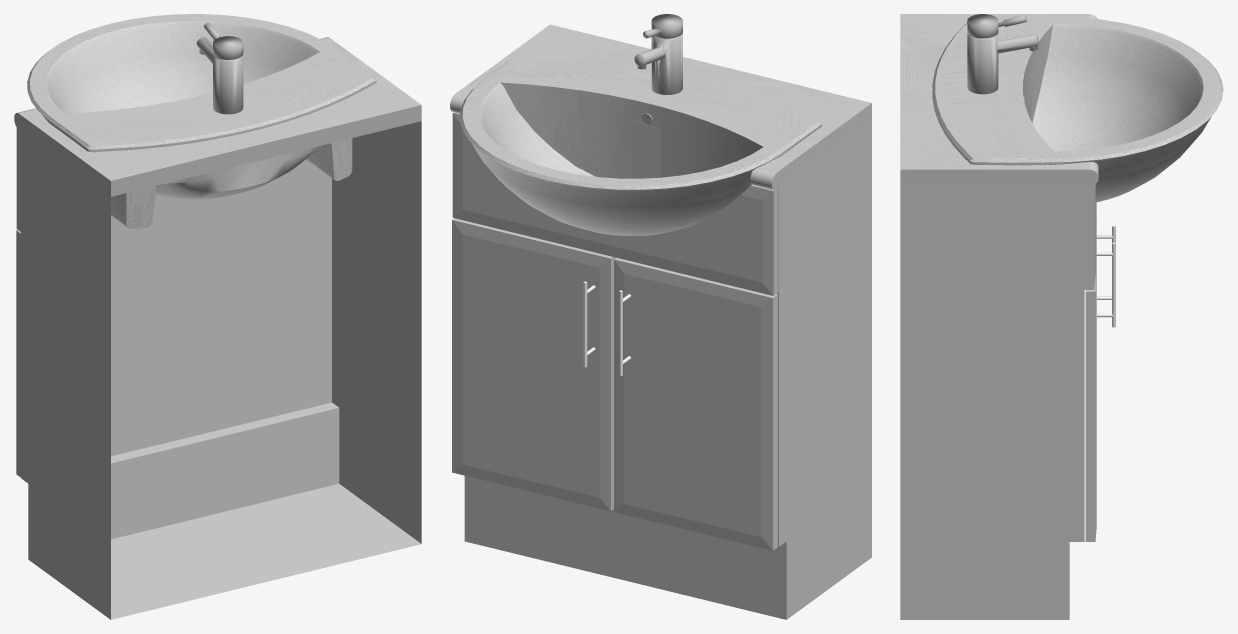
3 renders of one model, left to right at view 1: azimuth 30°, elevation 25°; view 2: azimuth 150°, elevation 25°; view 3: azimuth 270°, elevation 25°, orthographic. The views are drawn at different scales.
Visible parts, largest first — view 1: mesh1_mesh1-geometry, mesh28_mesh28-geometry, mesh36_mesh36-geometry, mesh30_mesh30-geometry, mesh38_mesh38-geometry, mesh4_mesh4-geometry, mesh39_mesh39-geometry; view 2: mesh1_mesh1-geometry, mesh28_mesh28-geometry, mesh4_mesh4-geometry, mesh6_mesh6-geometry, mesh8_mesh8-geometry, mesh36_mesh36-geometry, mesh38_mesh38-geometry, mesh10_mesh10-geometry, mesh39_mesh39-geometry; view 3: mesh1_mesh1-geometry, mesh28_mesh28-geometry, mesh36_mesh36-geometry, mesh6_mesh6-geometry, mesh38_mesh38-geometry, mesh8_mesh8-geometry, mesh39_mesh39-geometry.
Part boxes in pixels (<box>): mesh1_mesh1-geometry: <box>21,121,421,619</box>; mesh28_mesh28-geometry: <box>27,14,376,199</box>; mesh36_mesh36-geometry: <box>14,37,421,196</box>; mesh30_mesh30-geometry: <box>111,138,352,228</box>; mesh38_mesh38-geometry: <box>196,37,243,114</box>; mesh4_mesh4-geometry: <box>16,230,20,477</box>; mesh39_mesh39-geometry: <box>213,36,243,59</box>; mesh1_mesh1-geometry: <box>464,120,871,619</box>; mesh28_mesh28-geometry: <box>459,49,821,235</box>; mesh4_mesh4-geometry: <box>614,257,777,550</box>; mesh6_mesh6-geometry: <box>452,218,615,511</box>; mesh8_mesh8-geometry: <box>452,112,778,295</box>; mesh36_mesh36-geometry: <box>450,24,871,190</box>; mesh38_mesh38-geometry: <box>634,33,682,94</box>; mesh10_mesh10-geometry: <box>583,281,622,375</box>; mesh39_mesh39-geometry: <box>651,14,682,38</box>; mesh1_mesh1-geometry: <box>900,186,1084,619</box>; mesh28_mesh28-geometry: <box>932,16,1223,202</box>; mesh36_mesh36-geometry: <box>900,14,1098,185</box>; mesh6_mesh6-geometry: <box>1085,218,1096,541</box>; mesh38_mesh38-geometry: <box>967,33,1038,94</box>; mesh8_mesh8-geometry: <box>1084,184,1095,289</box>; mesh39_mesh39-geometry: <box>967,14,998,38</box>.
Size of the model in its own units: 0.484 by 0.7651 by 0.4247.
